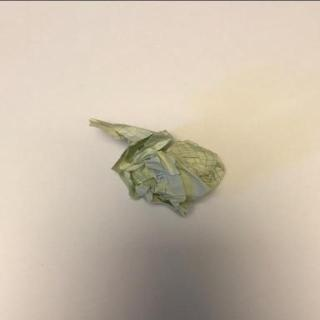Anorganik: (80, 108, 230, 220)
